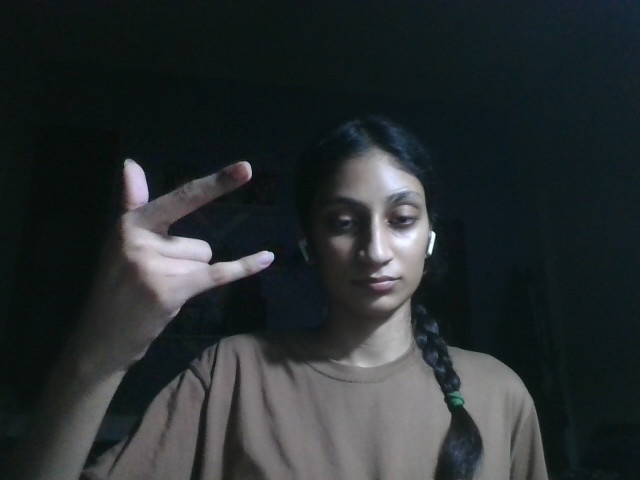i love you: (103, 157, 282, 366)
